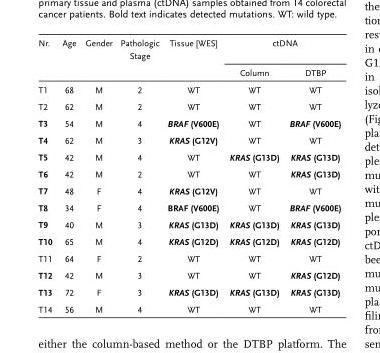table: (37, 37, 340, 313)
table column: (162, 37, 223, 313), (223, 37, 283, 313), (283, 37, 340, 313), (115, 37, 162, 313), (79, 37, 115, 313), (56, 37, 79, 313), (37, 37, 56, 313)
table column header: (37, 37, 340, 80)
table row: (37, 37, 340, 63), (37, 63, 340, 80), (37, 80, 340, 97), (37, 97, 340, 114), (37, 114, 340, 131), (37, 131, 340, 148), (37, 148, 340, 165), (37, 165, 340, 182), (37, 182, 340, 199), (37, 199, 340, 216), (37, 232, 340, 249), (37, 249, 340, 266), (37, 266, 340, 283), (37, 283, 340, 300), (37, 216, 340, 232), (37, 300, 340, 313)
table spanning cell: (223, 37, 340, 63), (162, 37, 223, 80), (115, 37, 162, 80), (79, 37, 115, 80), (56, 37, 79, 80), (37, 37, 56, 80)
